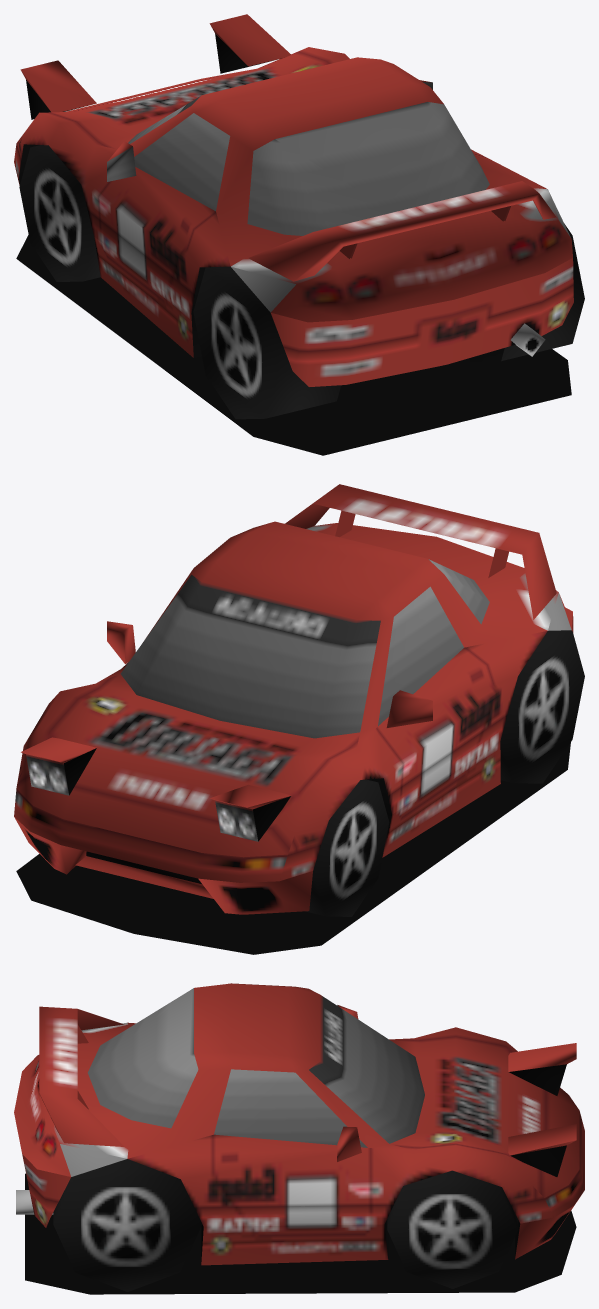
File: icon2.ico.obj
3 views of the same model, one above another, from view 1: azimuth 30°, elevation 25°; view 2: azimuth 150°, elevation 25°; view 3: azimuth 270°, elevation 25° (orthographic). The views are drawn at different scales.
Size of the model in its own units: 2.86 by 1.99 by 4.93.
1 material, 1 textured.
